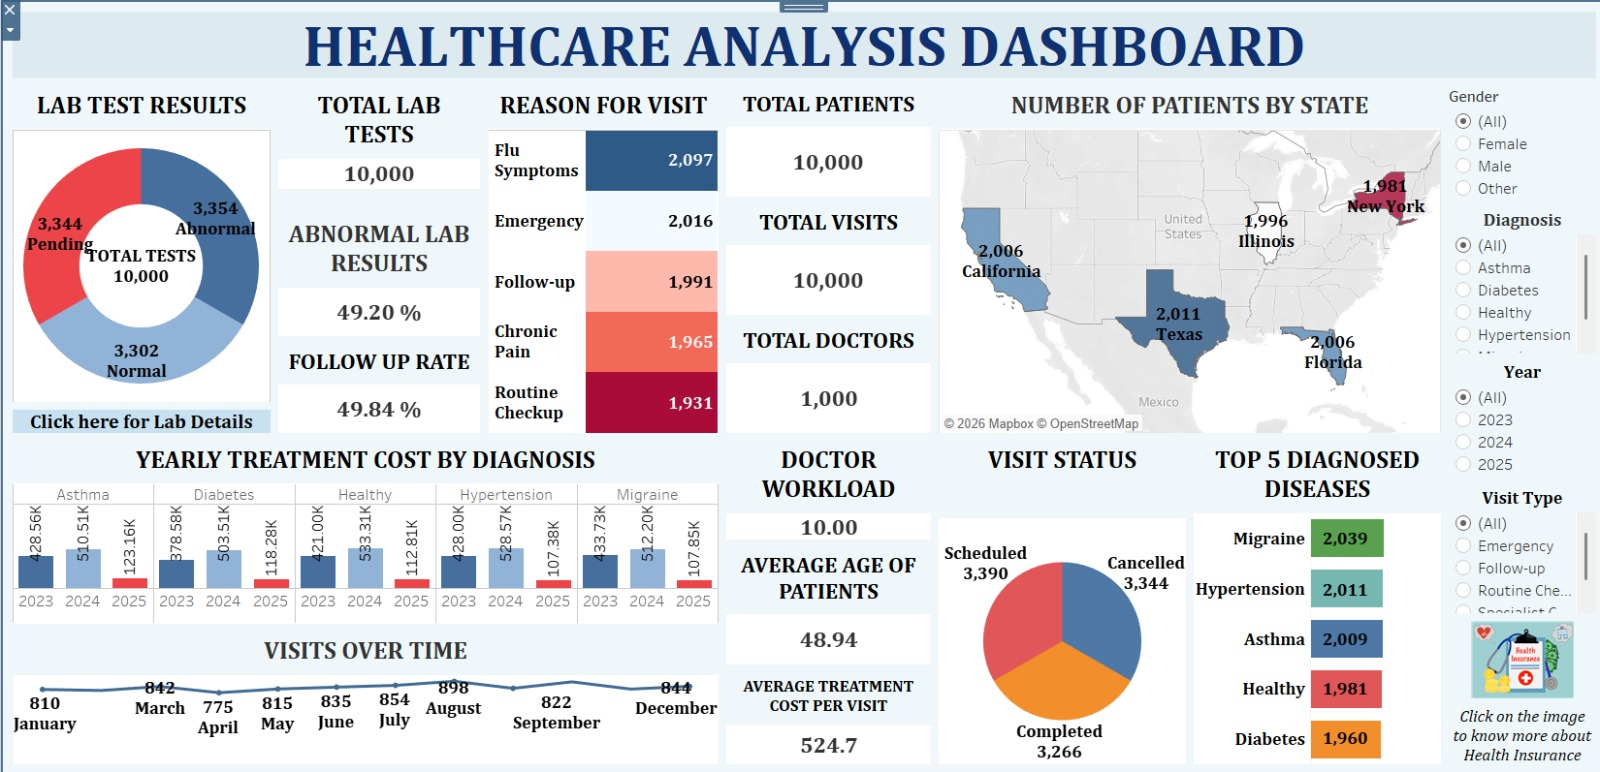

This screenshot's page, from the dashboard's own definition file:
{"tool":"tableau","page":{"name":"Dashboard 1","canvas":[1000,1000],"units":"permille","ordinal":0},"visuals":[{"type":"text","box":[4.8,10,990.3,95.7]},{"type":"worksheet","title":"Donut","mark":"Pie","rows":["Calculation_1027383685185384452","Calculation_1027383685185384452"],"box":[4.8,105.7,165.5,417.8]},{"type":"worksheet","title":"Lab Results","mark":"Automatic","box":[170.3,105.7,130.6,166.3]},{"type":"worksheet","title":"Reason for Vist","mark":"Square","rows":["Reason for Visit"],"box":[301,105.7,148,457.8]},{"type":"worksheet","title":"Tot Patients","mark":"Automatic","box":[449,105.7,132.4,152.6]},{"type":"worksheet","title":"Map","mark":"Automatic","box":[581.5,105.7,317.2,457.8]},{"type":"filter","title":"Abnormal","param":"[federated.0d7nf9d1tak6vo12dalkw18d9vq9].[none:Gender:nk]","box":[898.6,105.7,96.6,158.6]},{"type":"worksheet","title":"Tot Visit","mark":"Automatic","box":[449,258.2,132.4,152.6]},{"type":"filter","title":"Top 5 DD","param":"[federated.0d7nf9d1tak6vo12dalkw18d9vq9].[none:Diagnosis:nk]","box":[898.6,264.2,96.6,196]},{"type":"worksheet","title":"Abnormal","mark":"Automatic","box":[170.3,272,130.6,166.3]},{"type":"worksheet","title":"Tot Doc","mark":"Automatic","box":[449,410.8,132.4,152.6]},{"type":"worksheet","title":"Follow Up Rate","mark":"Automatic","box":[170.3,438.3,130.6,125.1]},{"type":"filter","title":"Yearly treat cost","param":"[federated.0d7nf9d1tak6vo12dalkw18d9vq9].[yr:Visit Date:ok]","box":[898.6,460.2,96.6,162.3]},{"type":"dashboard-object","box":[4.8,523.5,165.5,40]},{"type":"worksheet","title":"Yearly treat cost","mark":"Bar","rows":["Treatment Cost"],"cols":["Diagnosis","Visit Date"],"box":[4.8,563.4,444.2,245.6]},{"type":"worksheet","title":"Workload","mark":"Automatic","box":[449,563.4,132.4,137.3]},{"type":"worksheet","title":"Visit Status","mark":"Pie","box":[581.4,563.4,158.6,426.6]},{"type":"worksheet","title":"Top 5 DD","mark":"Automatic","rows":["Diagnosis"],"cols":["Visit ID"],"box":[740,563.4,158.6,426.6]},{"type":"filter","title":"Abnormal","param":"[federated.0d7nf9d1tak6vo12dalkw18d9vq9].[none:Visit Type:nk]","box":[898.6,622.5,96.6,172.3]},{"type":"worksheet","title":"Avg Age","mark":"Automatic","box":[449,700.8,132.4,161.1]},{"type":"image","param":"Image/Health-insurance.png","box":[898.6,794.8,96.6,110.3]},{"type":"worksheet","title":"Line Chart","mark":"Line","rows":["Visit ID"],"cols":["Visit Date"],"box":[4.8,809,444.2,181]},{"type":"worksheet","title":"Avg Treat Cost","mark":"Automatic","box":[449,861.8,132.4,128.2]},{"type":"text","box":[898.6,905.1,96.6,84.9]}]}

Visuals, with their boxes on the dashboard's canvas, which has no fixed pixel size, in thousandths of its width and height (x1, y1, x2, y2). These are canvas units, not pixel positions in the 1600x772 screenshot, which may show the page scaled, cropped or inside an application window:
text: [5,10,995,106]
"Donut" worksheet (Pie marks): [5,106,170,524]
"Lab Results" worksheet: [170,106,301,272]
"Reason for Vist" worksheet (Square marks): [301,106,449,564]
"Tot Patients" worksheet: [449,106,581,258]
"Map" worksheet: [582,106,899,564]
"Abnormal" filter: [899,106,995,264]
"Tot Visit" worksheet: [449,258,581,411]
"Top 5 DD" filter: [899,264,995,460]
"Abnormal" worksheet: [170,272,301,438]
"Tot Doc" worksheet: [449,411,581,563]
"Follow Up Rate" worksheet: [170,438,301,563]
"Yearly treat cost" filter: [899,460,995,622]
dashboard-object: [5,524,170,564]
"Yearly treat cost" worksheet (Bar marks): [5,563,449,809]
"Workload" worksheet: [449,563,581,701]
"Visit Status" worksheet (Pie marks): [581,563,740,990]
"Top 5 DD" worksheet: [740,563,899,990]
"Abnormal" filter: [899,622,995,795]
"Avg Age" worksheet: [449,701,581,862]
image: [899,795,995,905]
"Line Chart" worksheet (Line marks): [5,809,449,990]
"Avg Treat Cost" worksheet: [449,862,581,990]
text: [899,905,995,990]
